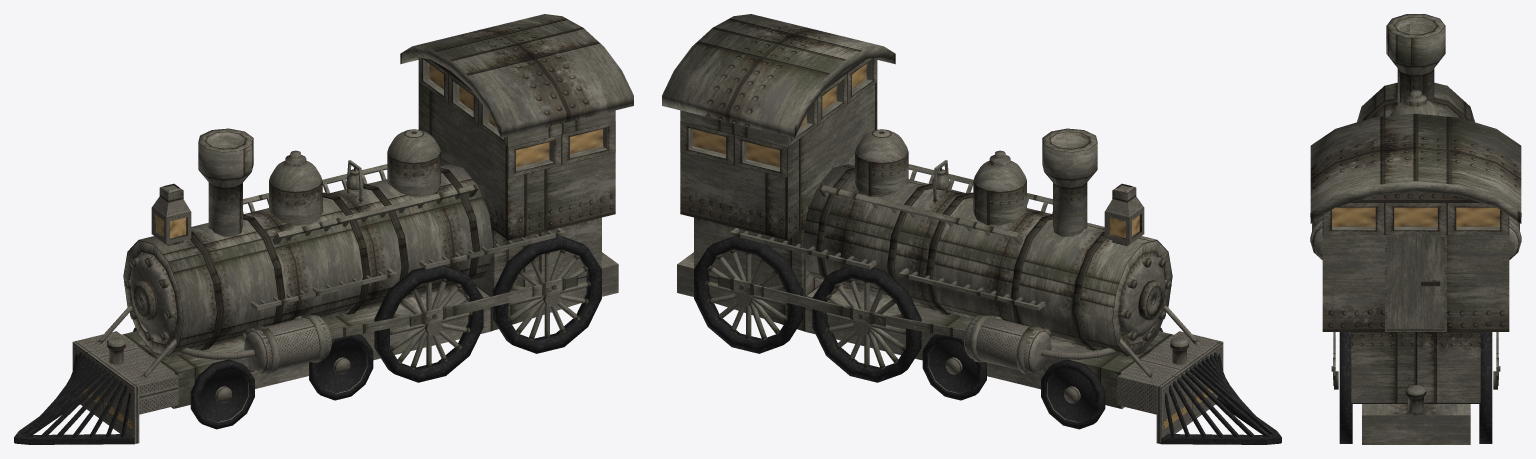
The model's file is locomotiva.fbx.
3 views of the same model, side by side, from view 1: azimuth 30°, elevation 25°; view 2: azimuth 150°, elevation 25°; view 3: azimuth 270°, elevation 25° (orthographic). The views are drawn at different scales.
Visible parts, largest first — view 1: Cylinder; view 2: Cylinder; view 3: Cylinder.
Part boxes in pixels (box(x1,y1,x2,y2)): Cylinder: box(14, 14, 633, 444); Cylinder: box(662, 14, 1281, 444); Cylinder: box(1310, 14, 1521, 444).
Bounding box in the file's own units: 7.32 × 3.38 × 2.23.
Materials: 1 (1 with a texture image).
